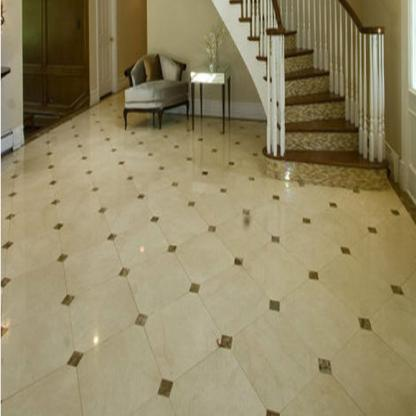Ceramic floor: (0, 144, 416, 416)
